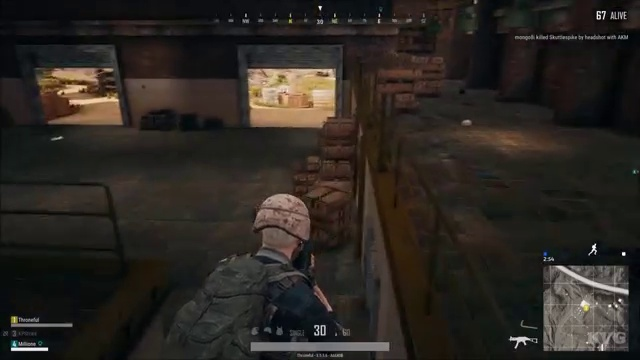Player: (179, 184, 361, 322)
